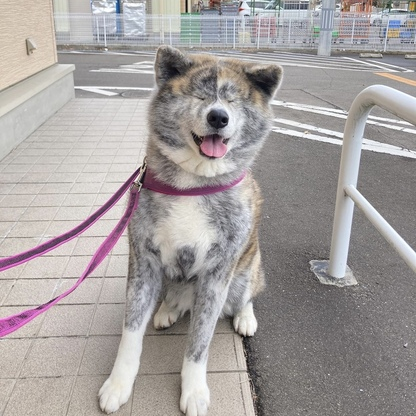akita: (94, 39, 289, 416)
